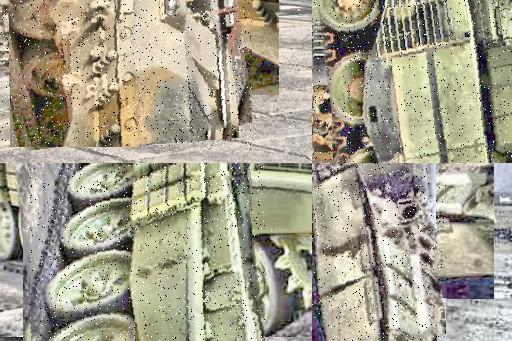tanks: (31, 164, 266, 341), (6, 1, 253, 147), (317, 1, 512, 164), (313, 164, 446, 341)
